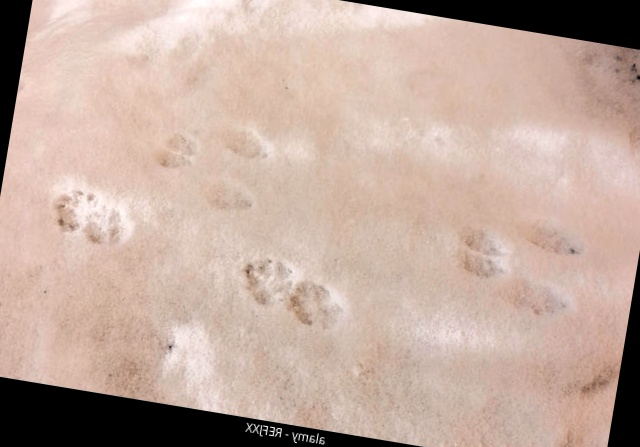lapin: (41, 179, 143, 260), (499, 266, 577, 337), (280, 274, 356, 341), (202, 110, 286, 167), (511, 202, 594, 259), (226, 249, 297, 313), (142, 118, 204, 185), (446, 219, 511, 282), (199, 168, 268, 223)
